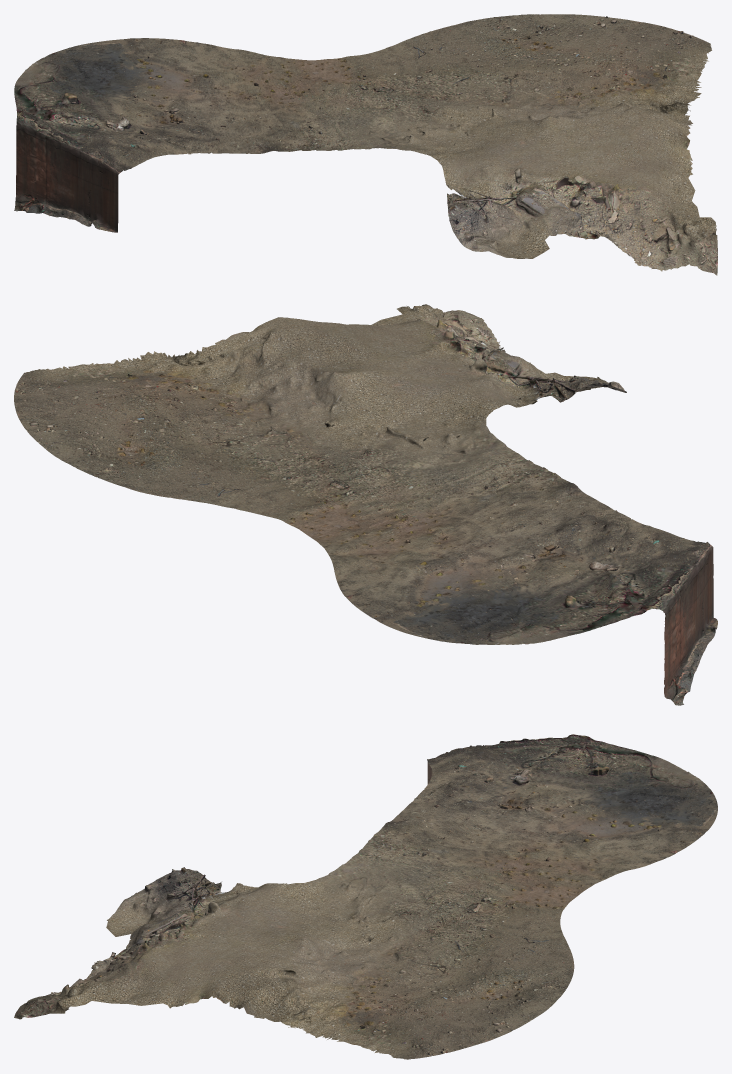
File: MOD_Ramp_Top.fbx
3 views of the same model, one above another, from view 1: azimuth 30°, elevation 25°; view 2: azimuth 150°, elevation 25°; view 3: azimuth 270°, elevation 25° (orthographic). The views are drawn at different scales.
Parts seen in each view (by area): view 1: MOD_Ramp_Top; view 2: MOD_Ramp_Top; view 3: MOD_Ramp_Top.
Boxes of the visible parts, x1,y1,x2,y2 form: MOD_Ramp_Top: [14, 14, 717, 275]; MOD_Ramp_Top: [14, 304, 717, 705]; MOD_Ramp_Top: [14, 734, 717, 1059].
Bounding box in the file's own units: 2574 × 356 × 2425.
Materials: 1 (1 with a texture image).
